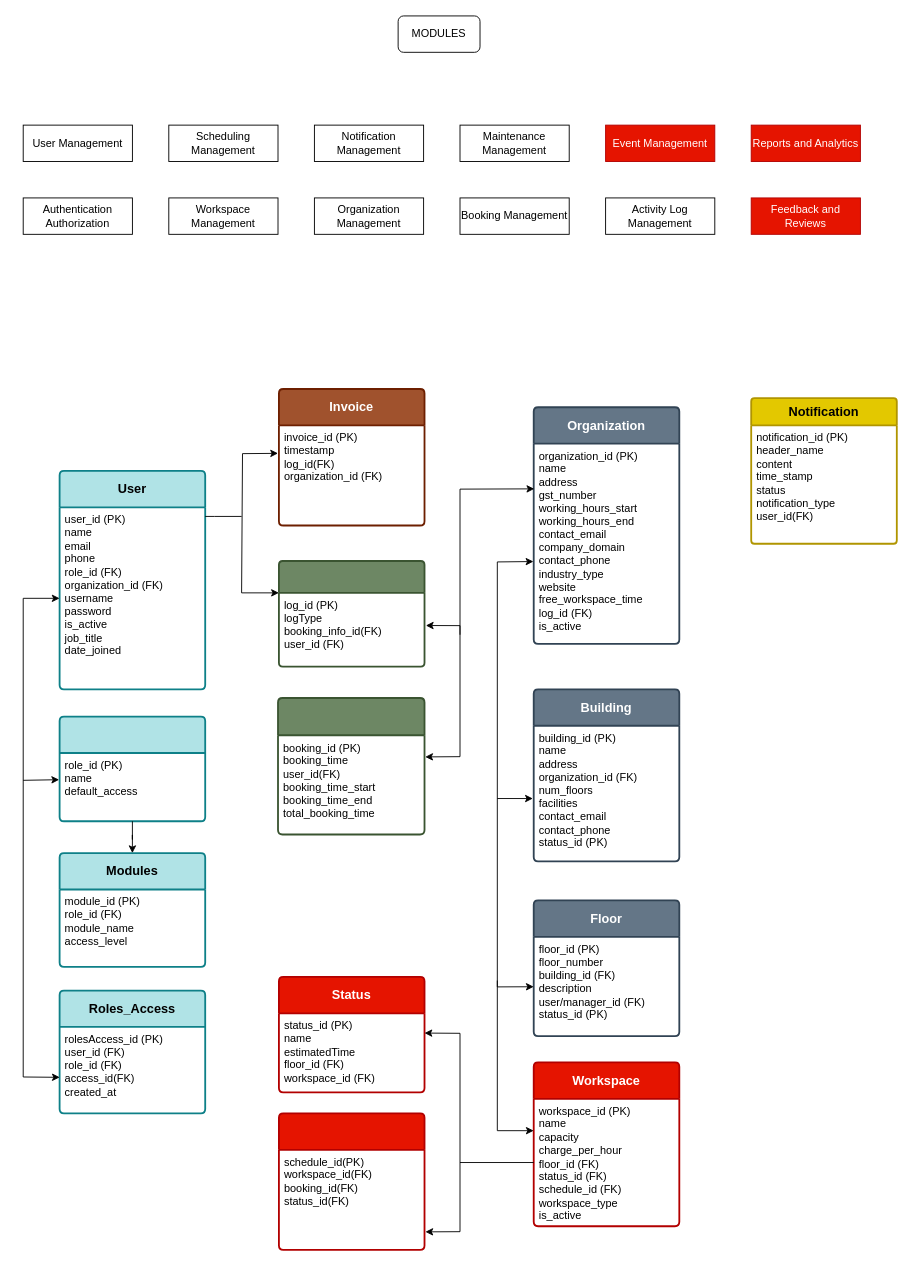
The diagram is 914 pixels wide and 1267 high, and some of its shapes have lost their labels. The box of each missing label's shape, as (x1, y1, x2, y2) in pixels:
Activity_Logs: (278, 560, 425, 667)
Booking_Info: (277, 697, 425, 835)
Roles: (58, 715, 206, 822)
Workspace_Availablity: (278, 1112, 425, 1250)
